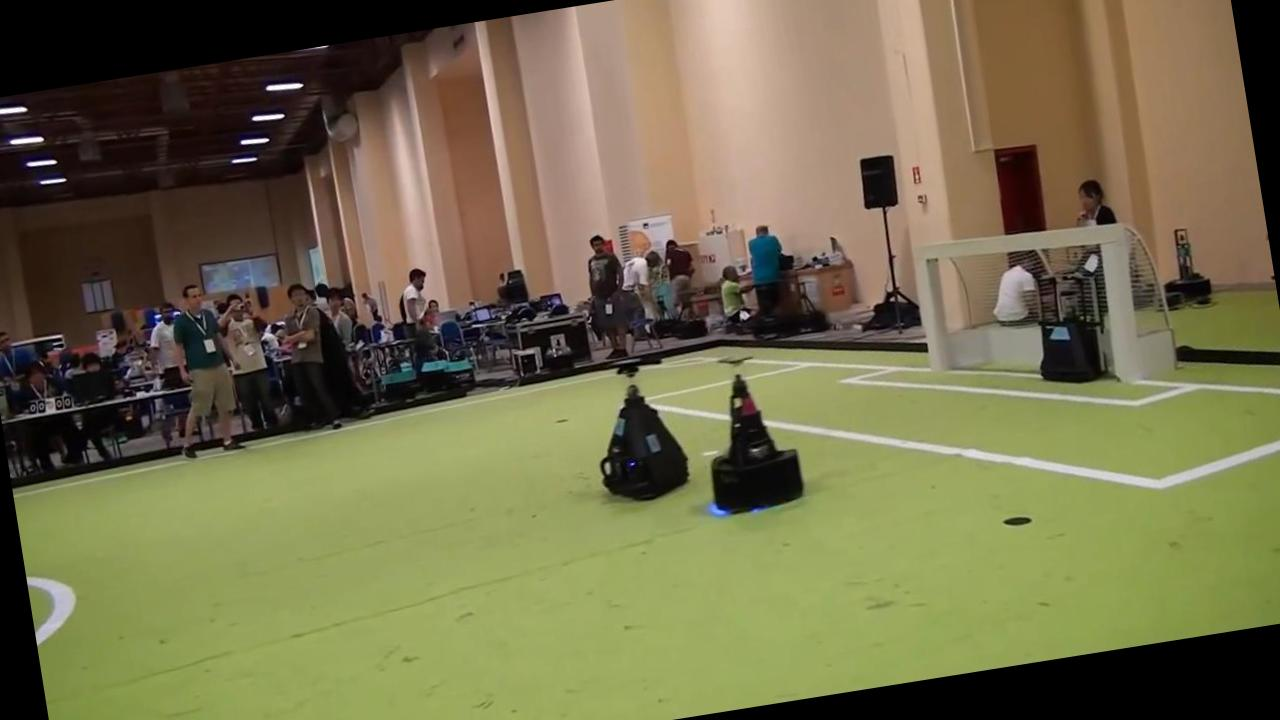goal: (1096, 224, 1144, 382), (914, 247, 950, 371)
person: (174, 284, 243, 457)
robot: (710, 375, 803, 513), (601, 384, 687, 500), (1035, 269, 1102, 383)
